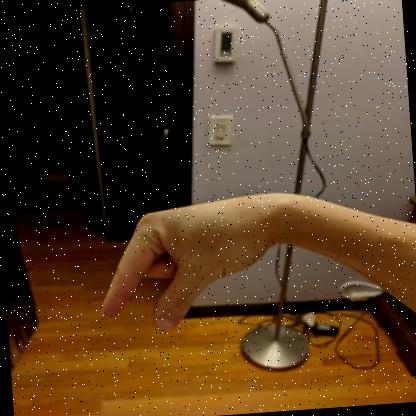Q: (101, 193, 281, 331)
